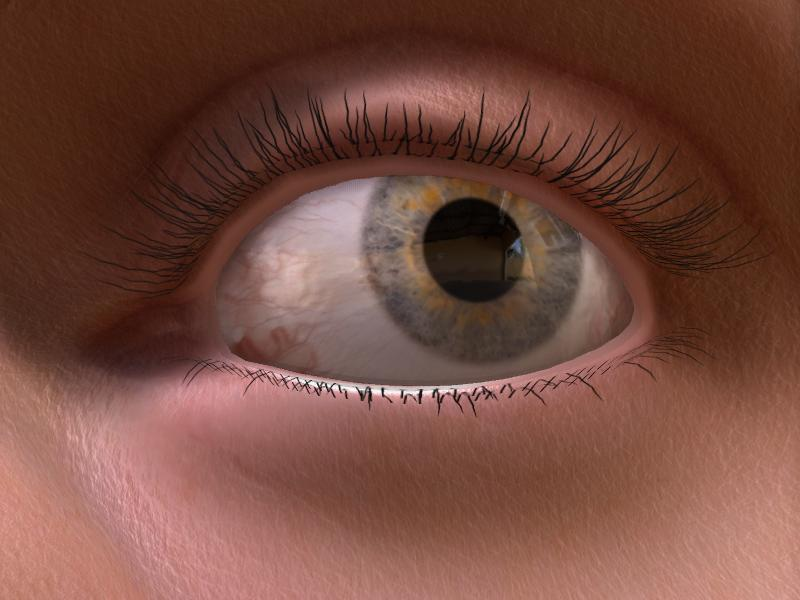eye: (361, 171, 583, 358)
